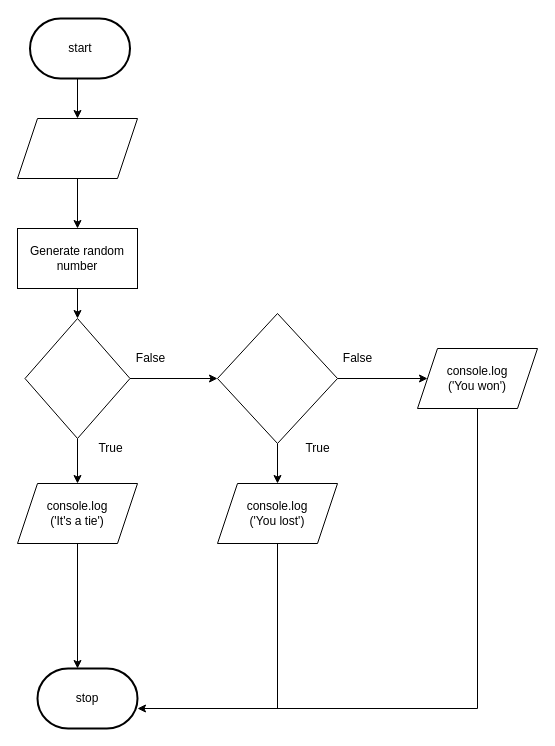
Some shapes in this 555 by 746 pixel diagram are drawn without their labels. Here are the shapes that lost their labels. From the top down, the centre of each, then its label:
the point at 77,148: Get Input
the point at 77,378: if choice === randomChoice
the point at 277,378: else if choice === 'rock' && randomchoice === 'paper' ...
